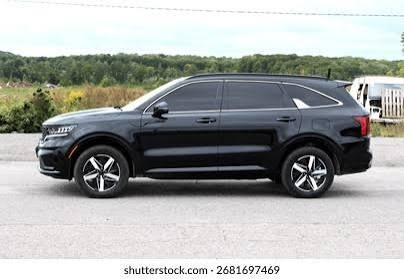car: (20, 75, 374, 199), (30, 77, 378, 201), (322, 78, 401, 128), (345, 77, 404, 121), (345, 78, 403, 121)
